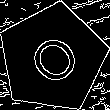O_SE: (19, 25, 86, 91)
